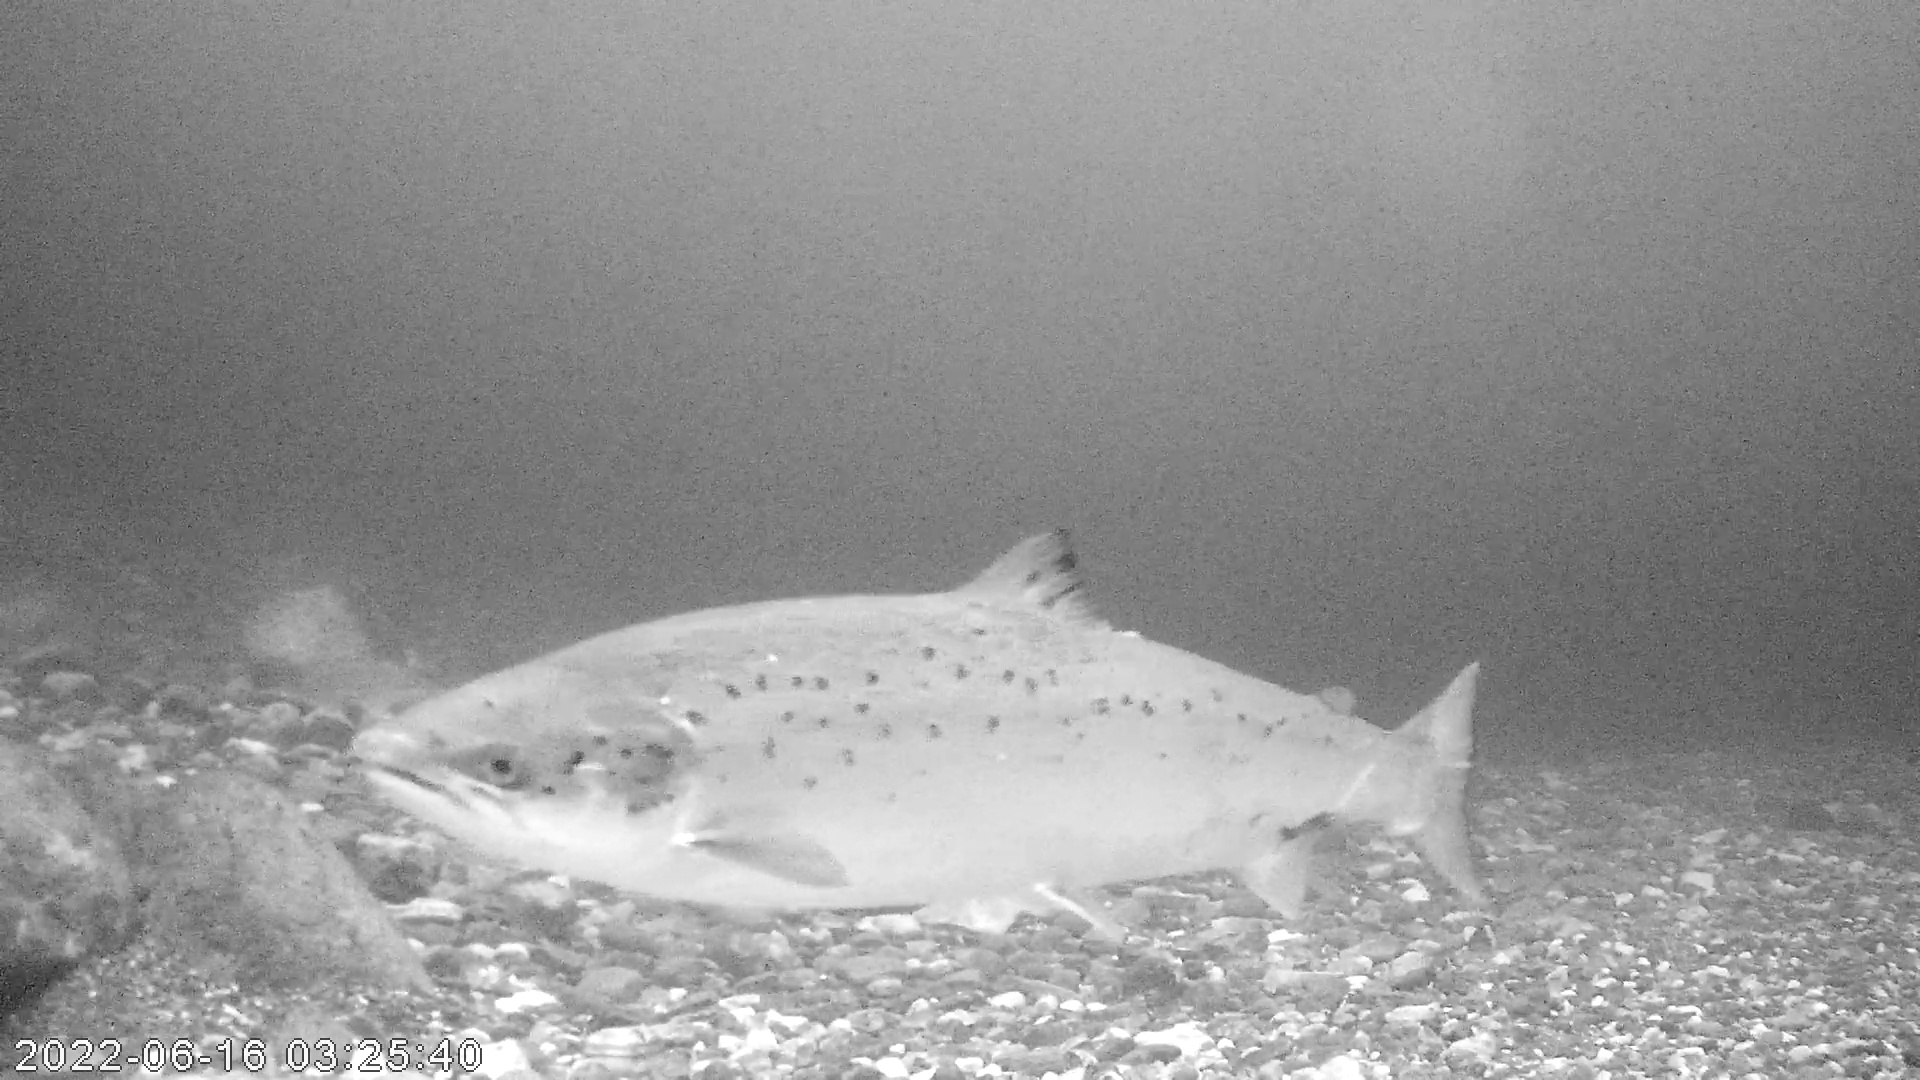salmon: (348, 525, 1490, 935)
